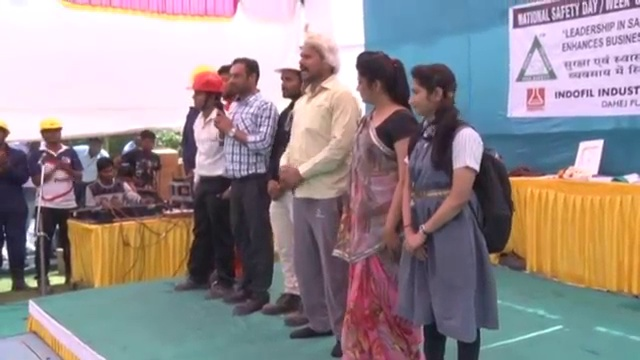helmet: (185, 69, 225, 98), (275, 47, 306, 77), (38, 118, 63, 136), (0, 120, 11, 137)
helmet_off: (350, 52, 405, 117), (407, 62, 463, 124), (294, 31, 340, 82), (222, 59, 261, 105), (96, 158, 114, 184), (85, 135, 105, 158), (133, 132, 151, 155), (129, 131, 143, 149)
helmet_on: (186, 71, 224, 115), (276, 48, 305, 99), (38, 118, 64, 152), (0, 120, 11, 152)
person: (403, 46, 513, 360), (279, 26, 357, 359), (351, 55, 420, 358), (213, 59, 277, 319), (171, 69, 237, 303), (263, 47, 307, 327), (28, 117, 83, 296), (0, 120, 33, 292), (84, 156, 155, 210), (118, 127, 162, 195), (73, 136, 110, 181)
